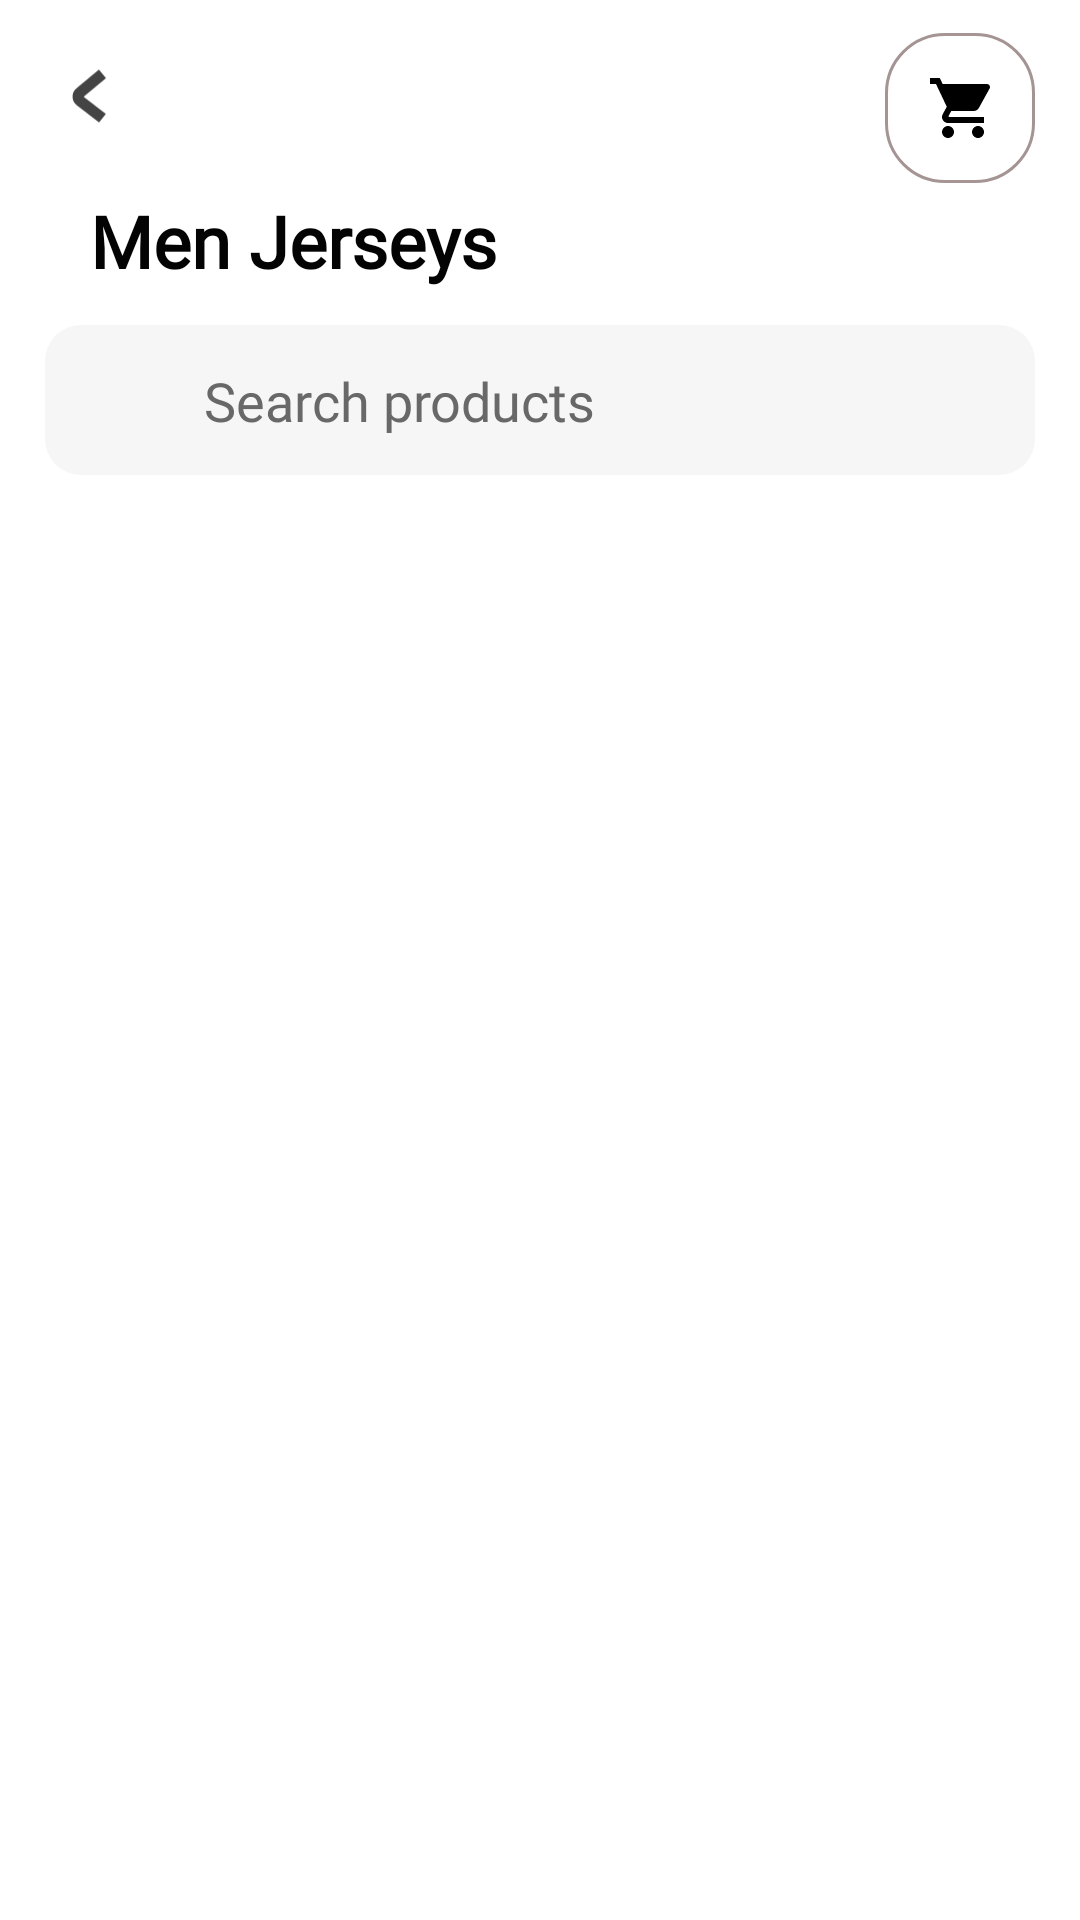

Where icons sit on this 1080x1920 app screen, as (x1, y1, x2, y2):
back ecom: (72, 69, 106, 123)
cartbutton: (885, 33, 1035, 183)
